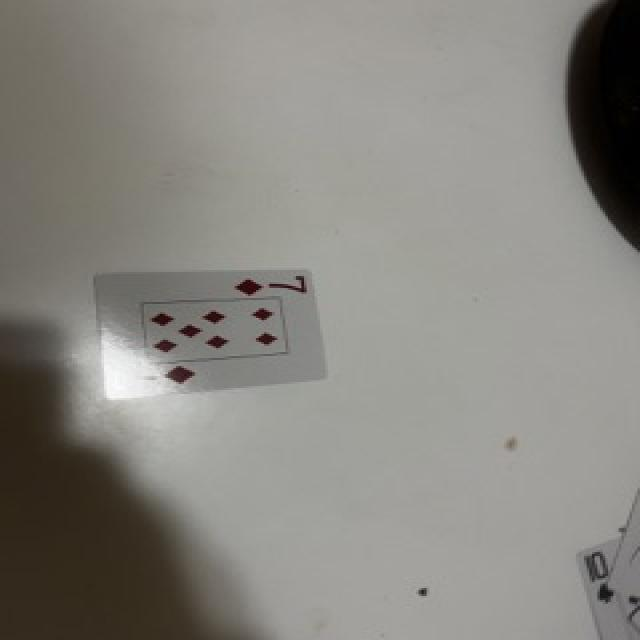7 of diamonds: (95, 270, 325, 399)
